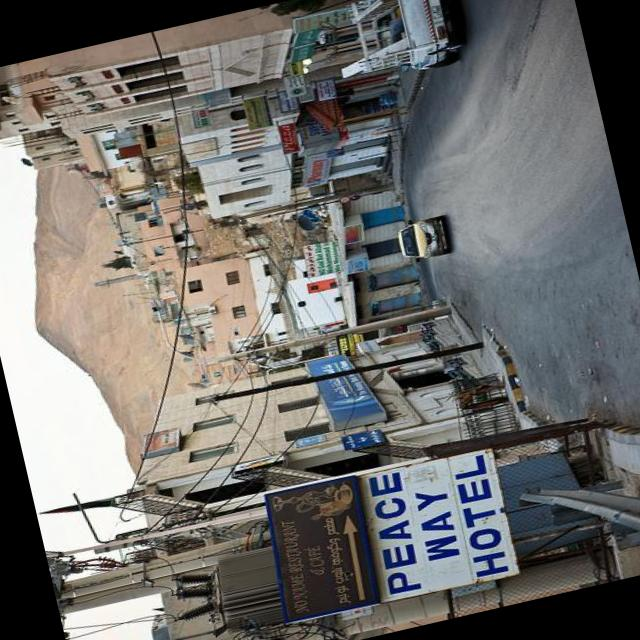car: (393, 209, 458, 264)
truck: (323, 0, 479, 87)
